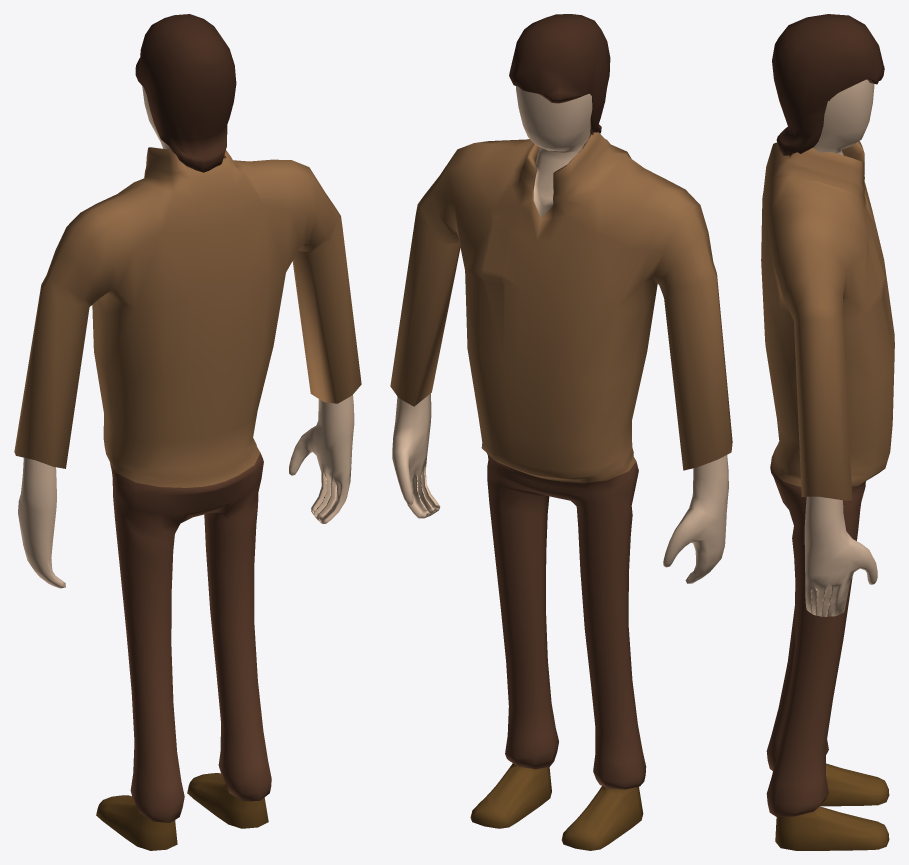
The model's file is NPC4.fbx.
3 renders of one model, left to right at view 1: azimuth 30°, elevation 25°; view 2: azimuth 150°, elevation 25°; view 3: azimuth 270°, elevation 25°, orthographic.
Visible parts, largest first — view 1: Personaje.001; view 2: Personaje.001; view 3: Personaje.001.
Part boxes in pixels (bbox=[...]): Personaje.001: bbox=[14, 14, 361, 850]; Personaje.001: bbox=[390, 14, 732, 850]; Personaje.001: bbox=[761, 14, 894, 850].
Bounding box in the file's own units: 90.69 × 203 × 30.79.
1 material, 1 textured.
